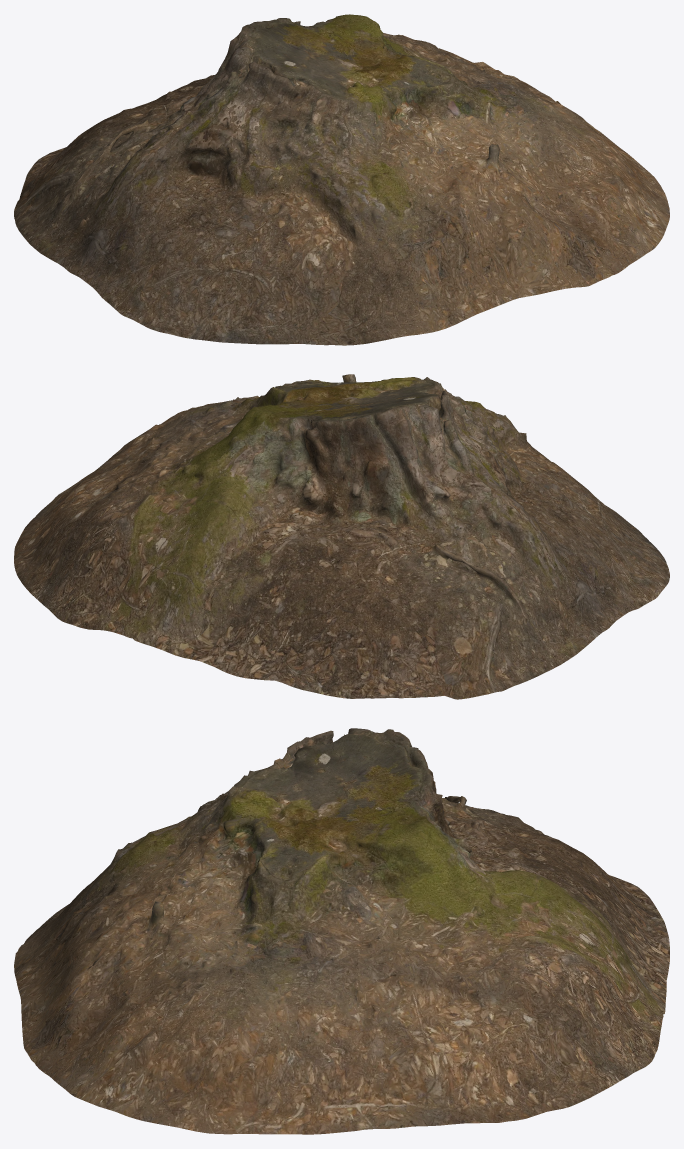
The model's file is tree_stump_02.glb.
The picture shows the model from 3 angles, top to bottom: view 1: azimuth 30°, elevation 25°; view 2: azimuth 150°, elevation 25°; view 3: azimuth 270°, elevation 25°; orthographic projection. The views are drawn at different scales.
Parts seen in each view (by area): view 1: tree_stump_02_lod0; view 2: tree_stump_02_lod0; view 3: tree_stump_02_lod0.
Boxes of the visible parts, <box> form: tree_stump_02_lod0: <box>14,14,669,345</box>; tree_stump_02_lod0: <box>14,374,669,699</box>; tree_stump_02_lod0: <box>14,728,669,1134</box>.
Size of what is drawn, in the model's own units: 1.52 by 0.5229 by 1.39.
Materials: 1 (1 with a texture image).
